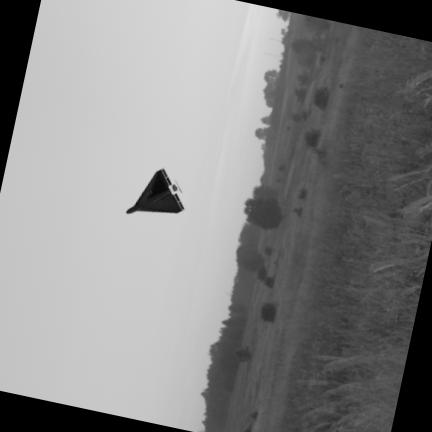Shahed: (127, 168, 184, 212)
